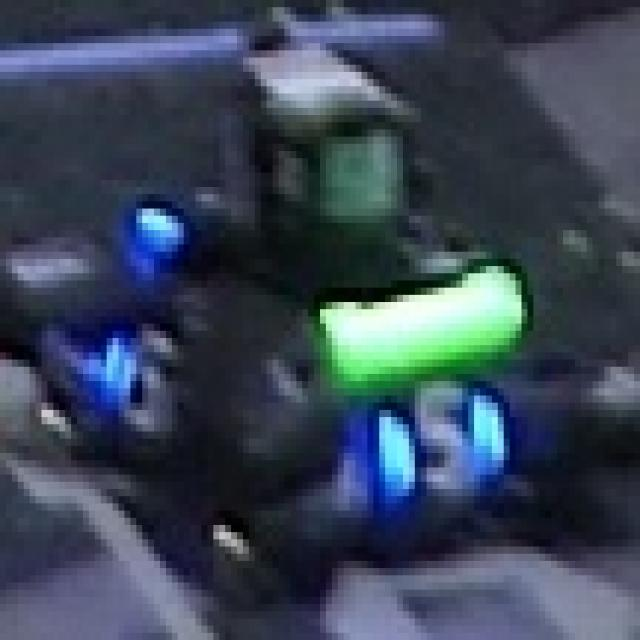B5: (379, 374, 510, 510), (100, 309, 190, 439)
